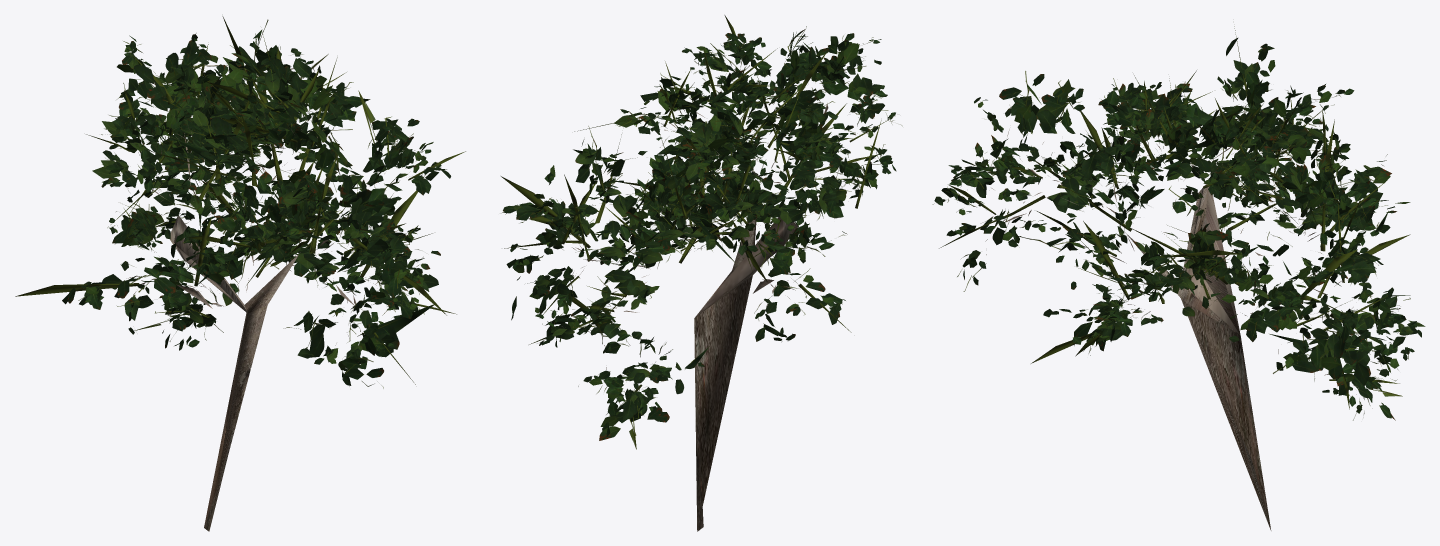
Rendered from tree_small.glb.
3 views of the same model, side by side, from view 1: azimuth 30°, elevation 25°; view 2: azimuth 150°, elevation 25°; view 3: azimuth 270°, elevation 25° (orthographic). The views are drawn at different scales.
Visible parts, largest first — view 1: tree_small_02_LOD1; view 2: tree_small_02_LOD1; view 3: tree_small_02_LOD1.
Part boxes in pixels (bbox=[...]): tree_small_02_LOD1: bbox=[15, 16, 465, 531]; tree_small_02_LOD1: bbox=[501, 15, 902, 531]; tree_small_02_LOD1: bbox=[932, 26, 1425, 530].
Size of the model in its own units: 3.31 by 4.52 by 4.28.
3 materials, 3 textured.
